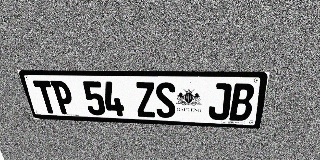4: (101, 81, 125, 116)
5: (82, 81, 107, 115)
B: (229, 83, 256, 121)
J: (208, 83, 232, 120)
P: (50, 81, 76, 114)
S: (155, 82, 176, 118)
T: (32, 80, 59, 114)
Z: (134, 82, 156, 117)
